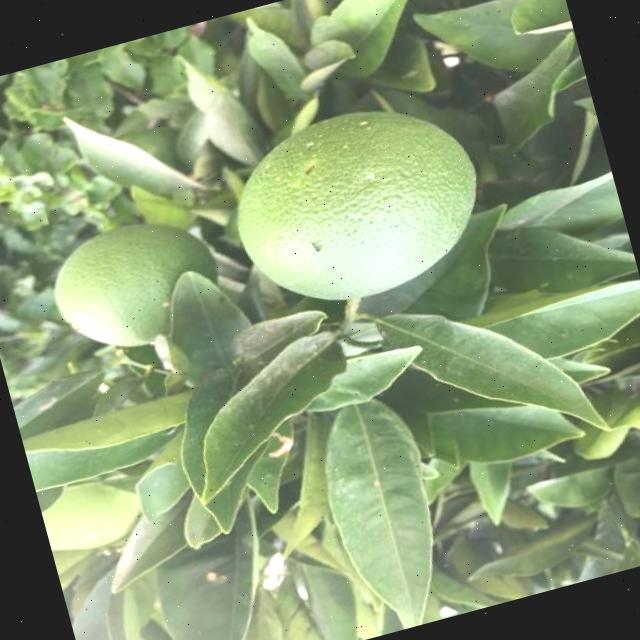Unripe: (215, 85, 492, 324), (39, 205, 232, 370)
